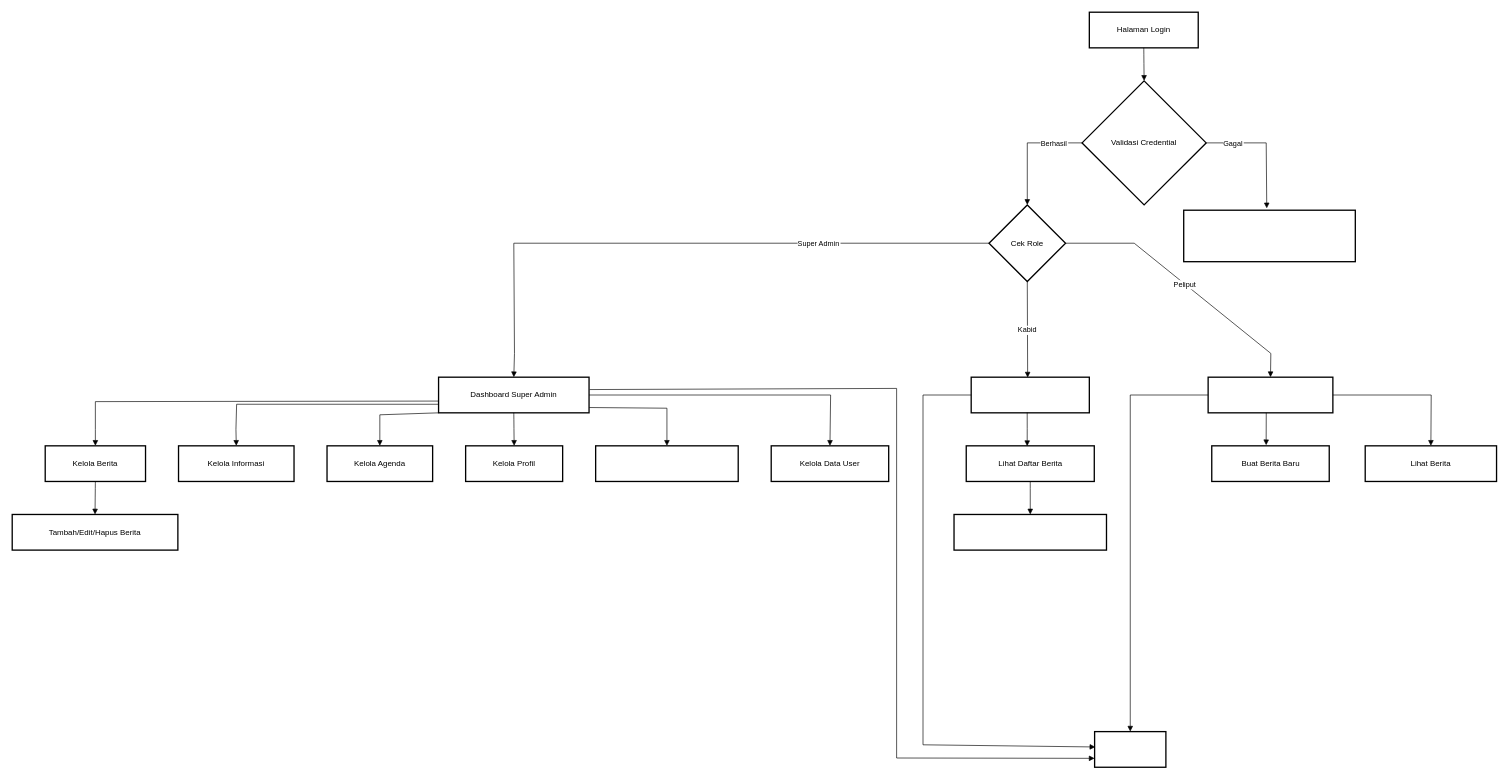
The diagram is 1508 pixels wide and 779 high, and some of its shapes have lost their labels. Each missing label, with the centre of its shape:
Dashboard Kabid: the point at 1030,394
Dashboard Peliput: the point at 1270,394
Kelola Layanan Publik: the point at 667,463
Login Gagal Menampilan Pesan Error: the point at 1269,235
Logout: the point at 1130,749
Review & Koreksi Berita: the point at 1030,531
